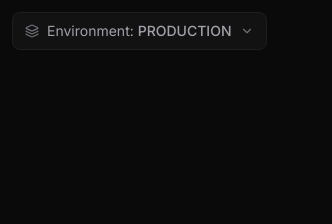
ServiceEnvironmentSelector › lists every linked environment with a health indicator when opened
Click the button "Environment: PRODUCTION" at (139, 31), box [12,12,266,50]
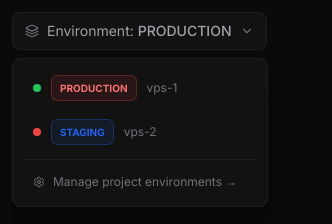
expect the text "vps-1" is shown: met, box [146,80,177,96]
expect the text "vps-2" is shown: met, box [124,124,157,140]
expect the element titled "Server reachable" is shown: met, box [33,84,41,92]
